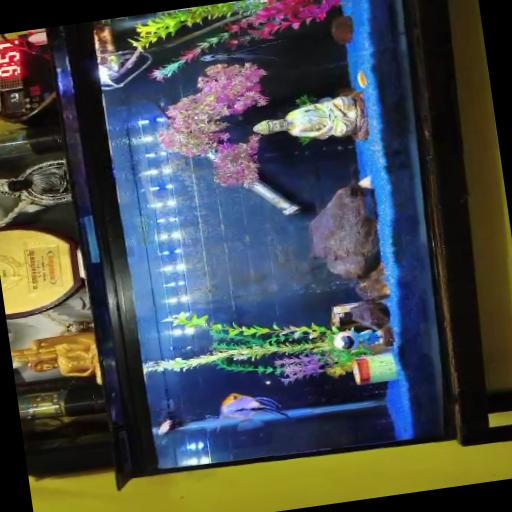Fish: (219, 392, 289, 430), (201, 41, 280, 60), (158, 419, 175, 434), (358, 70, 367, 86)
